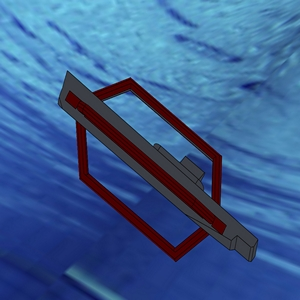submarine: (37, 31, 265, 291)
